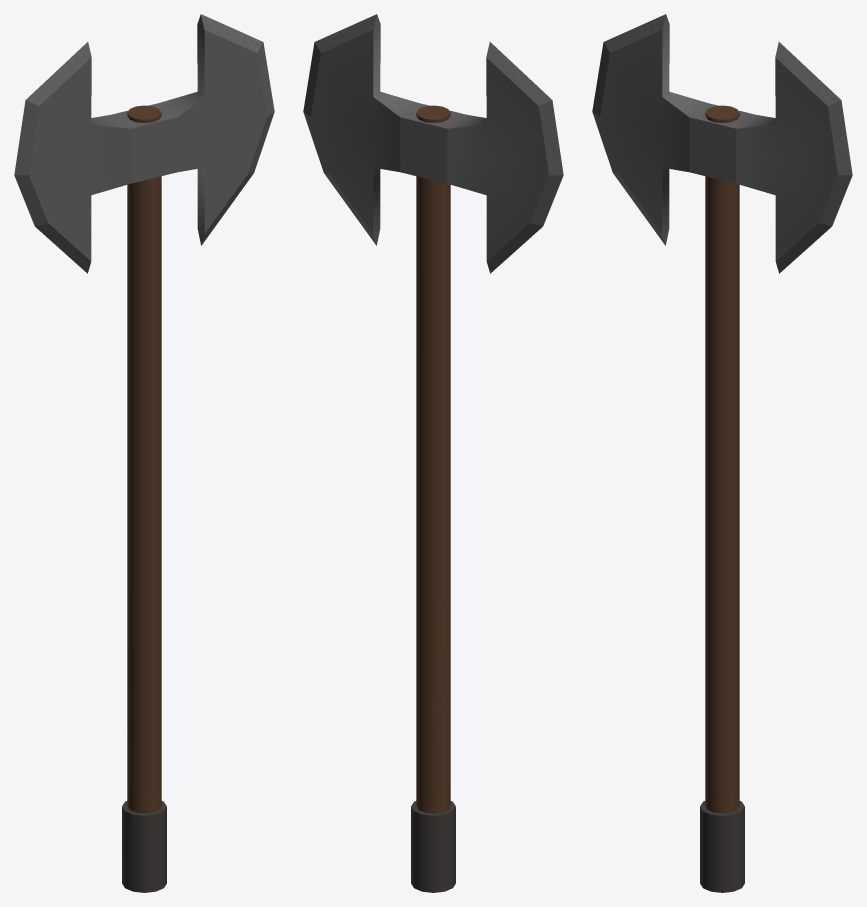
Rendered from Double Axe.fbx.
3 views of the same model, side by side, from view 1: azimuth 30°, elevation 25°; view 2: azimuth 150°, elevation 25°; view 3: azimuth 330°, elevation 25° (orthographic).
Parts seen in each view (by area): view 1: Double Axe_Baked; view 2: Double Axe_Baked; view 3: Double Axe_Baked.
Part boxes in pixels (x1,y1,x2,y2): Double Axe_Baked: (14, 14, 274, 892); Double Axe_Baked: (303, 14, 563, 892); Double Axe_Baked: (592, 14, 852, 892).
Size of the model in its own units: 35.36 by 111 by 5.28.
1 material, 1 textured.
